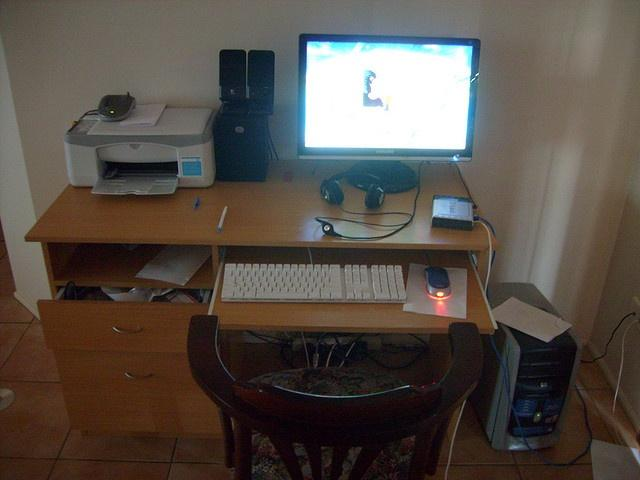AIO PC-Monitor-TV: (296, 32, 480, 193)
Meja: (22, 158, 500, 274)
Printer: (63, 104, 217, 196)
